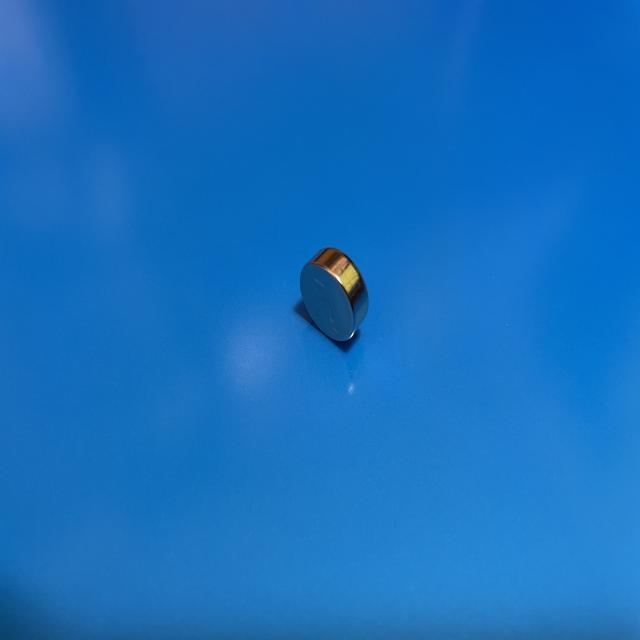COIN: (298, 248, 370, 346)
